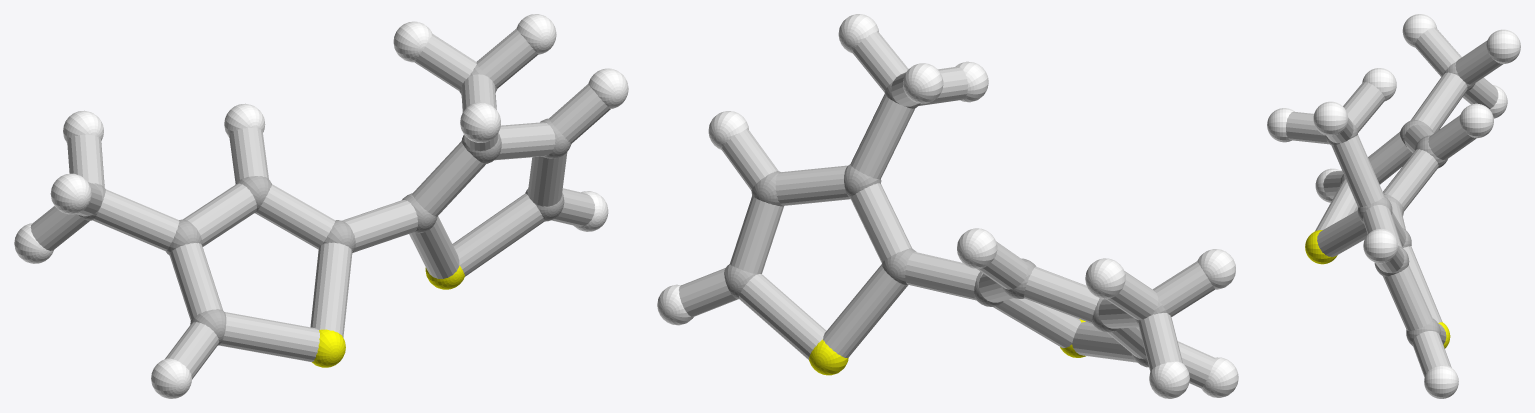
The model's file is Methylthiophene_Phi_5_Theta_250_Methylthiophene.glb.
3 views of the same model, side by side, from view 1: azimuth 30°, elevation 25°; view 2: azimuth 150°, elevation 25°; view 3: azimuth 270°, elevation 25° (orthographic). The views are drawn at different scales.
Visible parts, largest first — view 1: grp7965, grp3621, grp1, grp7241; view 2: grp7965, grp3621, grp1, grp7241; view 3: grp7965, grp3621, grp1, grp7241.
Boxes of the visible parts, x1,y1,x2,y2 form: grp7965: (30, 29, 610, 379); grp3621: (14, 14, 628, 398); grp1: (79, 64, 571, 345); grp7241: (312, 265, 464, 367); grp7965: (679, 31, 1215, 388); grp3621: (657, 14, 1238, 398); grp1: (724, 82, 1166, 367); grp7241: (809, 319, 1085, 375); grp7965: (1286, 27, 1503, 376); grp3621: (1267, 14, 1520, 398); grp1: (1325, 61, 1475, 345); grp7241: (1305, 230, 1450, 348).
Bounding box in the file's own units: 9.53 × 4.98 × 4.38.
